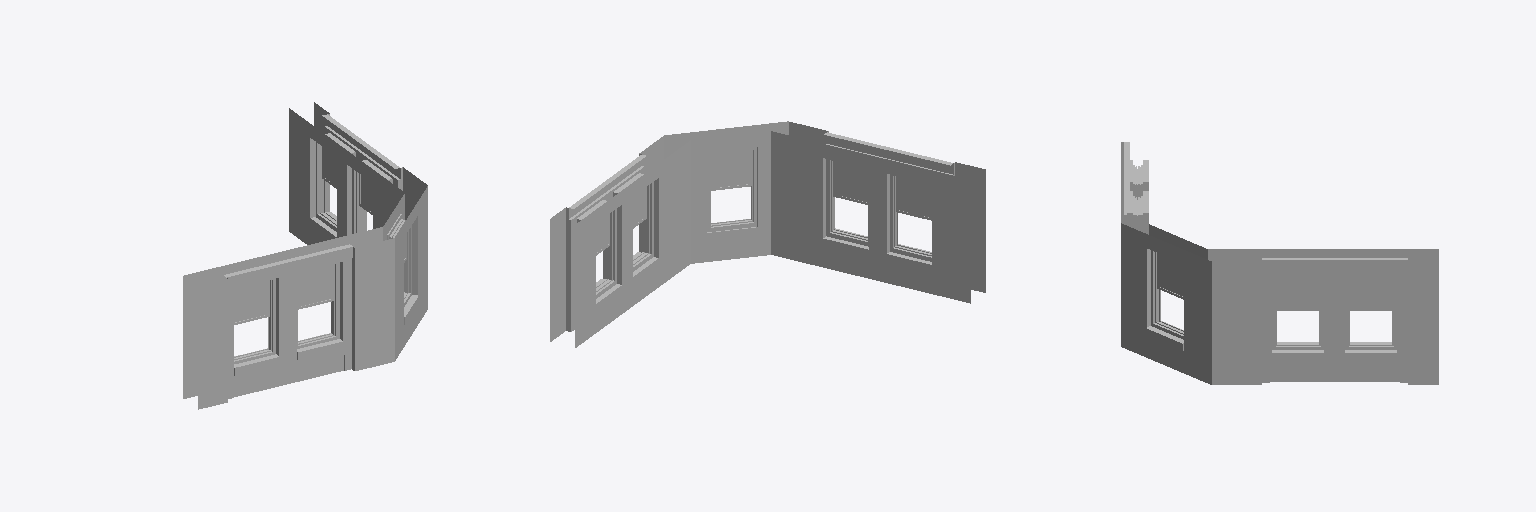
The model's file is Building_Mid_Corner_B_LOD0.obj.
3 views of the same model, side by side, from view 1: azimuth 30°, elevation 25°; view 2: azimuth 150°, elevation 25°; view 3: azimuth 270°, elevation 25° (orthographic).
Parts seen in each view (by area): view 1: Building_Mid_Corner_B_LOD0 Building_Mid_Corner_B; view 2: Building_Mid_Corner_B_LOD0 Building_Mid_Corner_B; view 3: Building_Mid_Corner_B_LOD0 Building_Mid_Corner_B.
Part boxes in pixels (x1,y1,x2,y2): Building_Mid_Corner_B_LOD0 Building_Mid_Corner_B: (183, 102, 427, 409); Building_Mid_Corner_B_LOD0 Building_Mid_Corner_B: (550, 121, 985, 347); Building_Mid_Corner_B_LOD0 Building_Mid_Corner_B: (1121, 142, 1438, 384).
Bounding box in the file's own units: 700 × 300 × 700.